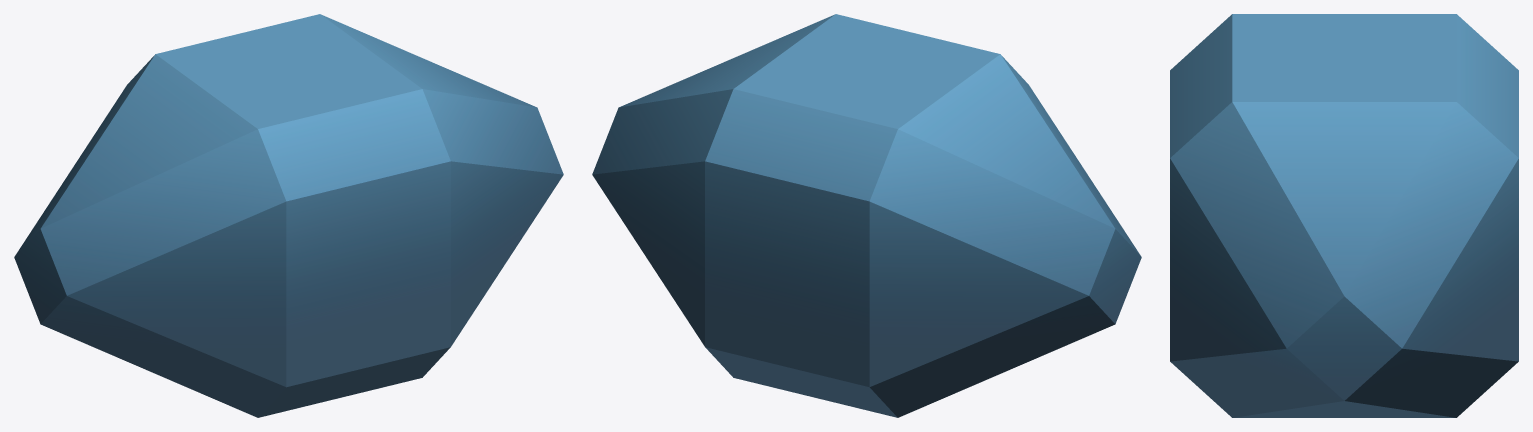
The model's file is Crystal_mini.1.fbx.
3 renders of one model, left to right at view 1: azimuth 30°, elevation 25°; view 2: azimuth 150°, elevation 25°; view 3: azimuth 270°, elevation 25°, orthographic. The views are drawn at different scales.
Visible parts, largest first — view 1: Crystal_mini.1; view 2: Crystal_mini.1; view 3: Crystal_mini.1.
Part boxes in pixels (x1,y1,x2,y2): Crystal_mini.1: (14, 14, 563, 417); Crystal_mini.1: (592, 14, 1141, 417); Crystal_mini.1: (1170, 14, 1518, 417).
Bounding box in the file's own units: 17.07 × 9.48 × 9.48.
